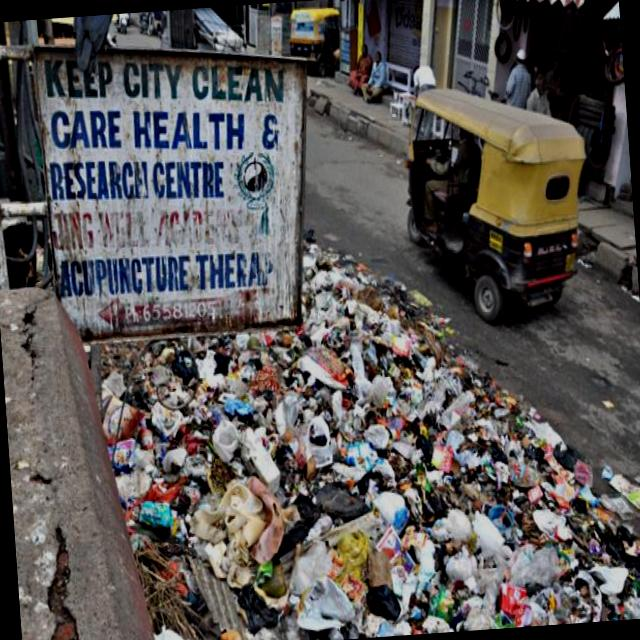garbage: (97, 317, 640, 640)
